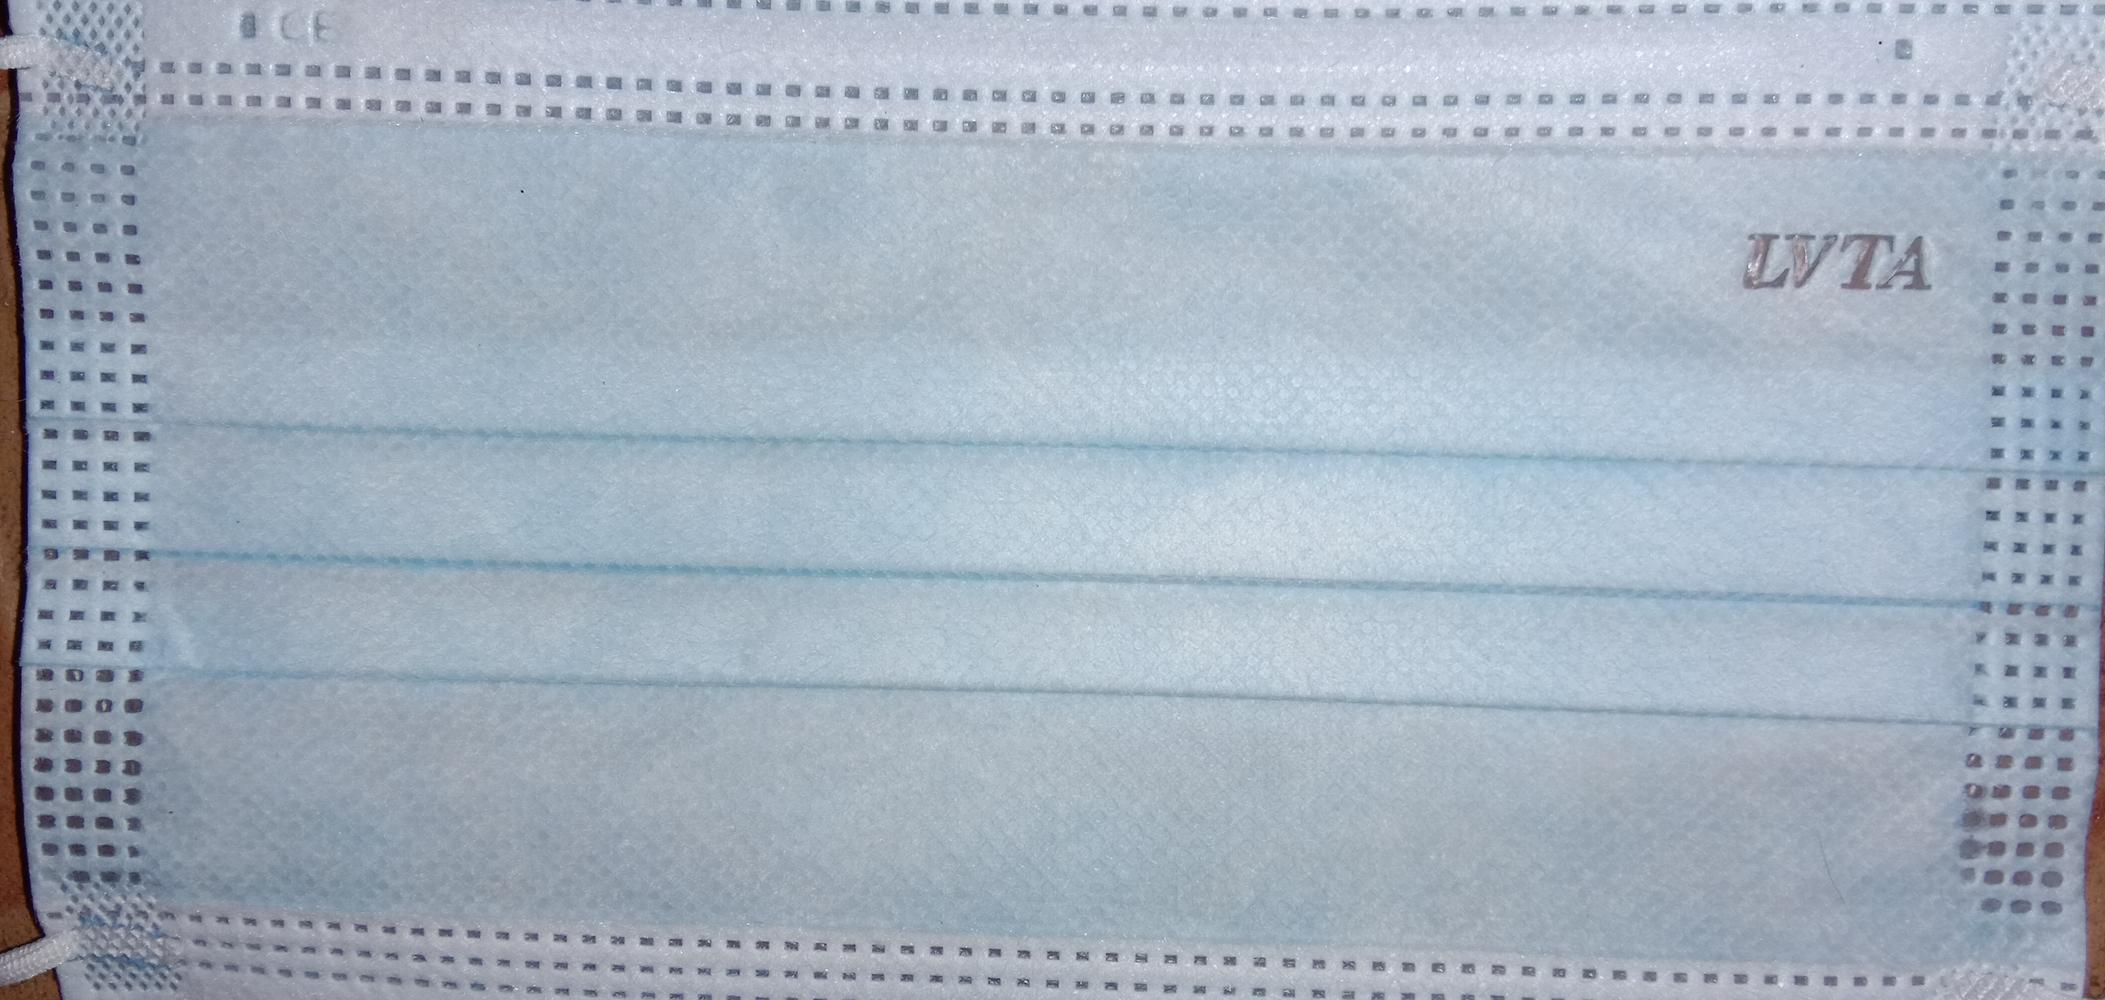Face Mask: (17, 6, 2104, 1000)
